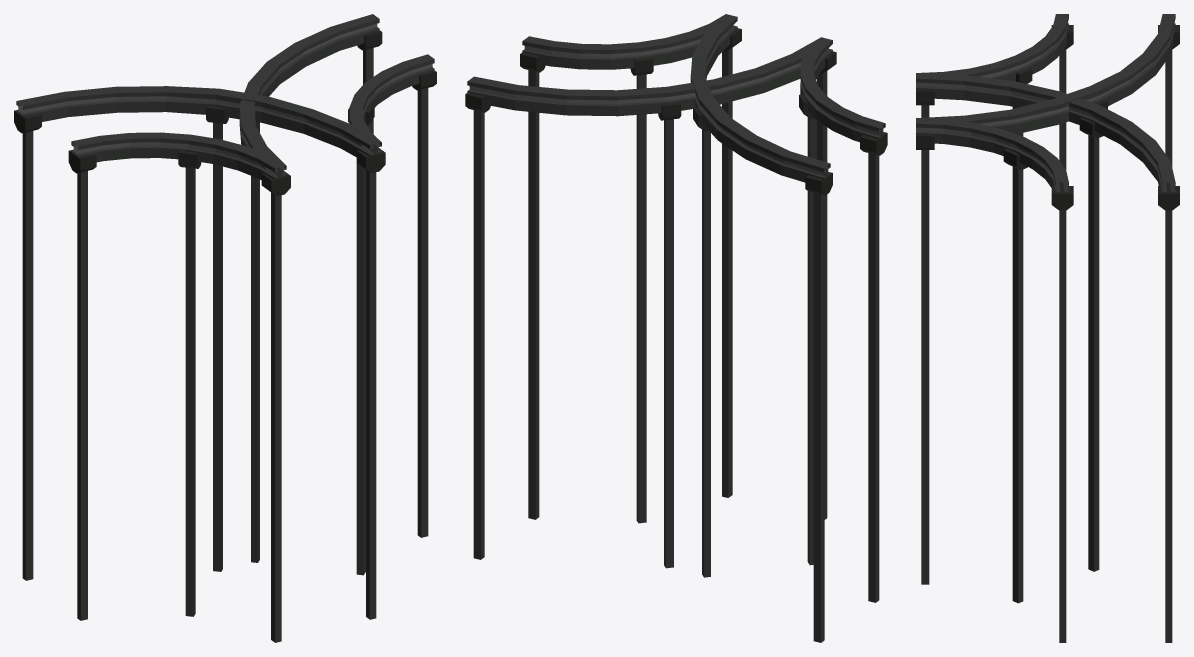
File: railroad _t-curve_.fbx
3 renders of one model, left to right at view 1: azimuth 30°, elevation 25°; view 2: azimuth 150°, elevation 25°; view 3: azimuth 270°, elevation 25°, orthographic. The views are drawn at different scales.
Parts seen in each view (by area): view 1: railroad_t-curve; view 2: railroad_t-curve; view 3: railroad_t-curve.
Part boxes in pixels (bbox=[...]): railroad_t-curve: bbox=[14, 14, 436, 642]; railroad_t-curve: bbox=[465, 14, 887, 642]; railroad_t-curve: bbox=[916, 14, 1179, 642].
Size of the model in its own units: 6 by 7.68 by 3.96.
